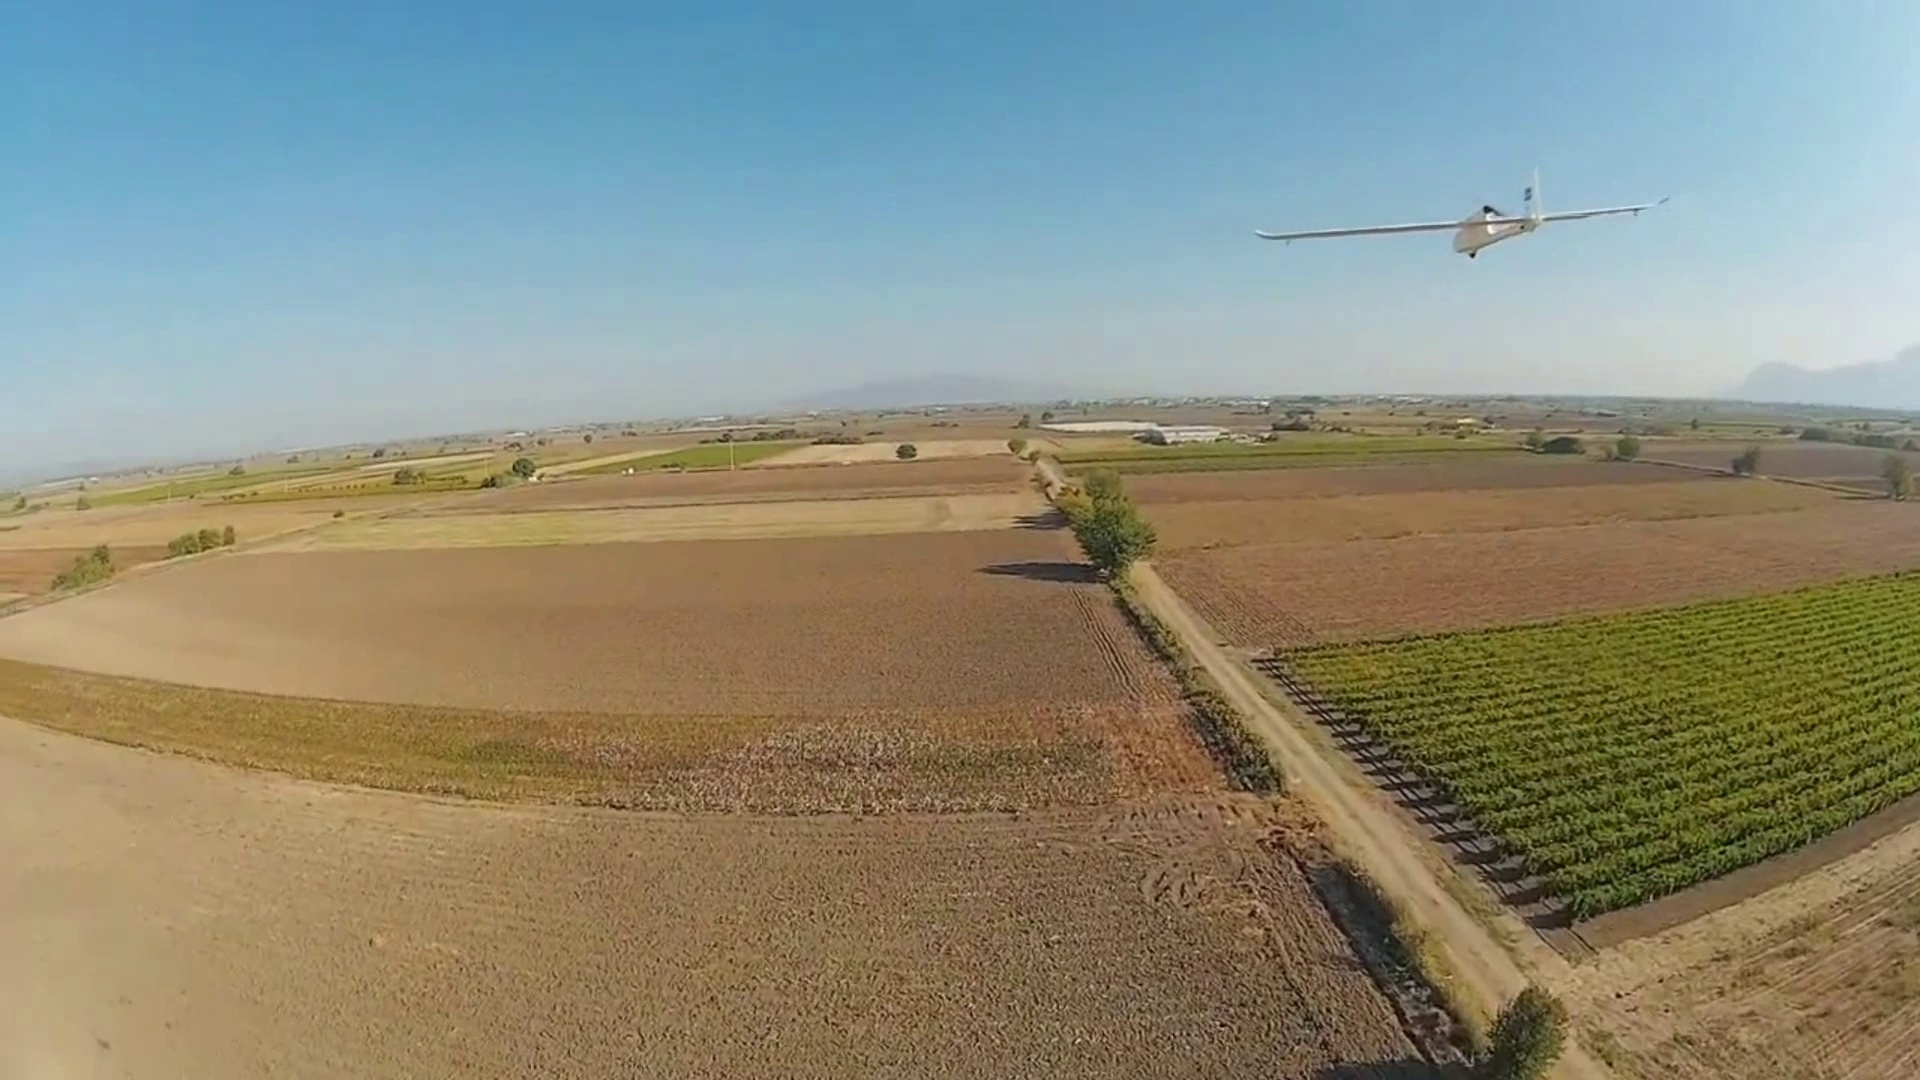airplane: (1253, 161, 1671, 258)
